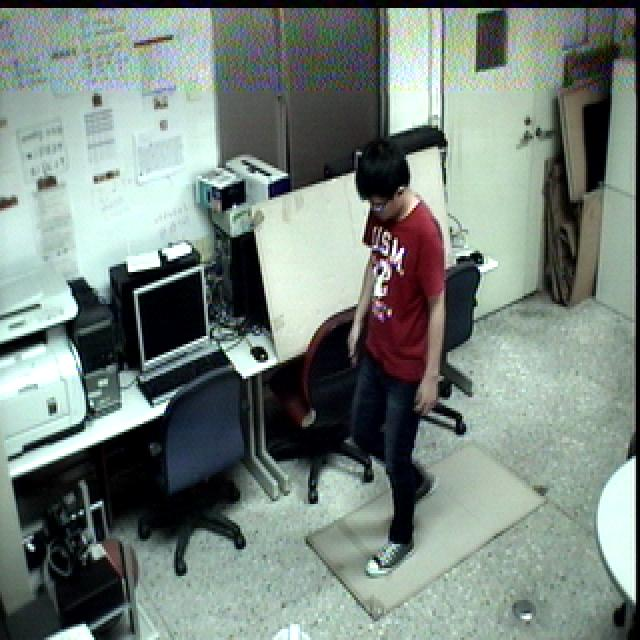stand: (333, 131, 455, 590)
